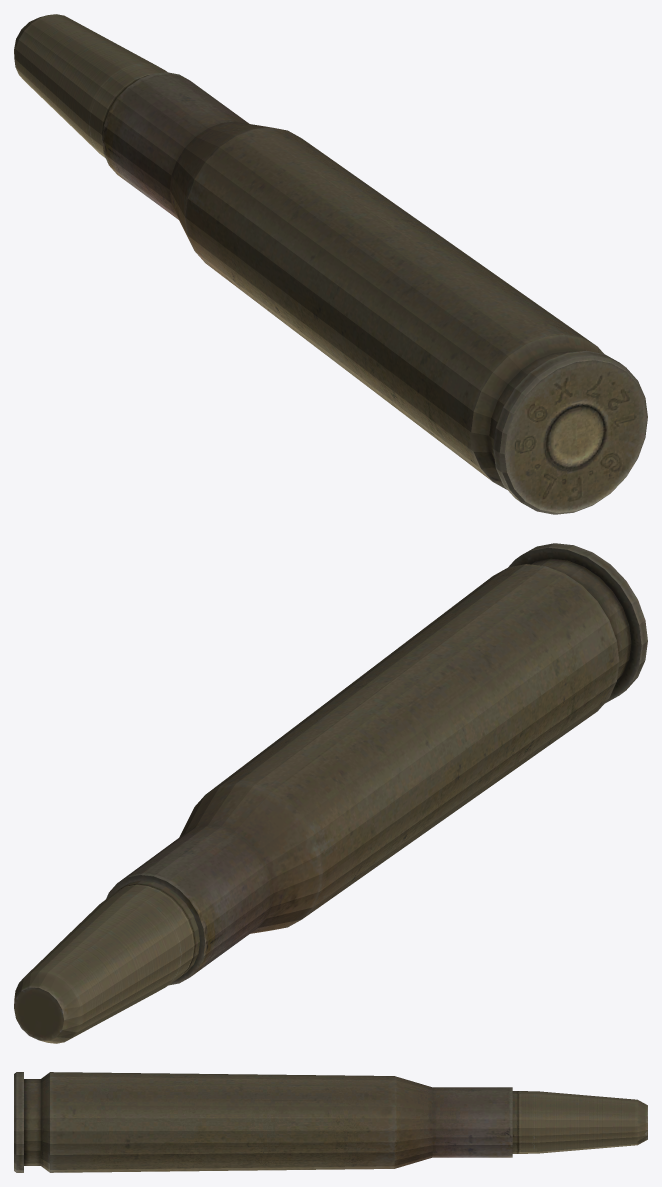
3 views of the same model, one above another, from view 1: azimuth 30°, elevation 25°; view 2: azimuth 150°, elevation 25°; view 3: azimuth 270°, elevation 25° (orthographic). The views are drawn at different scales.
Visible parts, largest first — view 1: TW_67d41936f378a36c4706eeb9_PZ_Import; view 2: TW_67d41936f378a36c4706eeb9_PZ_Import; view 3: TW_67d41936f378a36c4706eeb9_PZ_Import.
Part boxes in pixels (x1,y1,x2,y2): TW_67d41936f378a36c4706eeb9_PZ_Import: (14,14,647,514); TW_67d41936f378a36c4706eeb9_PZ_Import: (14,543,647,1043); TW_67d41936f378a36c4706eeb9_PZ_Import: (14,1072,647,1172).
Size of the model in its own units: 0.0117 by 0.0735 by 0.0117.
1 material, 1 textured.
